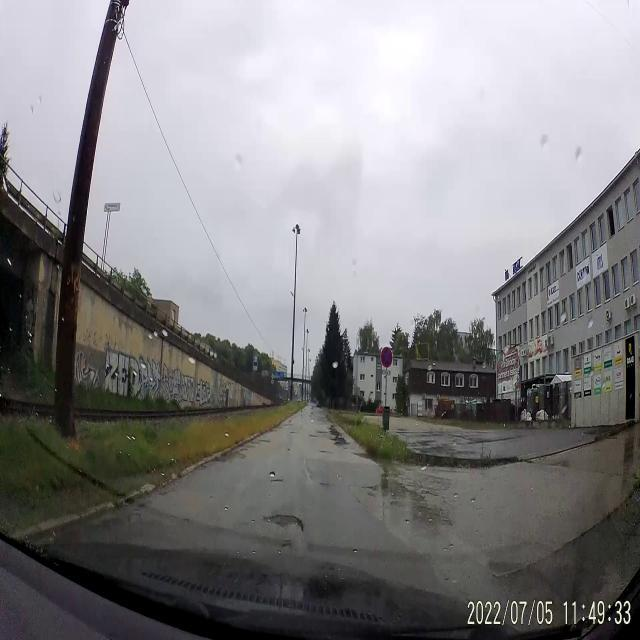Pothole: (264, 504, 310, 540), (318, 475, 332, 492), (318, 446, 334, 460), (268, 474, 284, 486), (258, 436, 272, 448)
